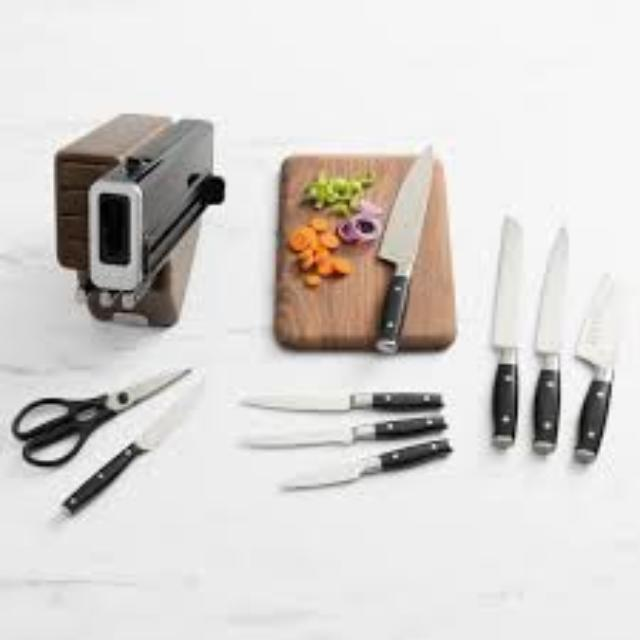knife: (56, 370, 202, 514), (372, 142, 432, 352), (280, 435, 452, 489), (530, 224, 568, 452), (572, 271, 616, 464), (490, 214, 520, 446), (246, 413, 447, 447), (239, 390, 443, 410)
